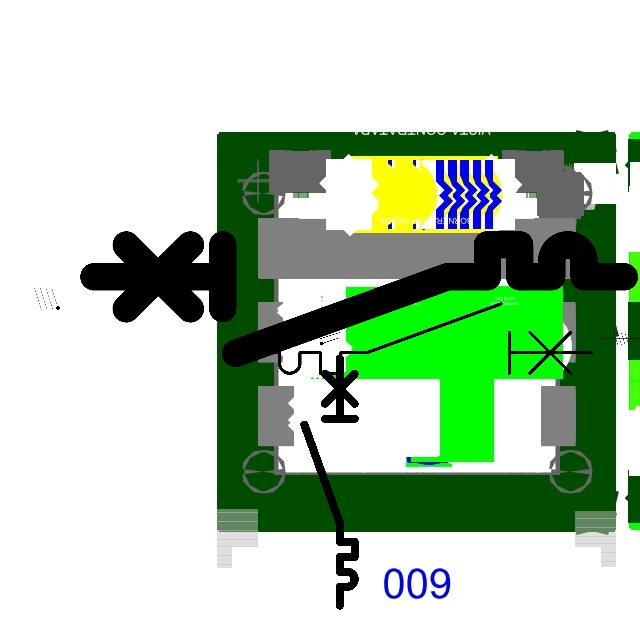interruptor_termomagnetico: (80, 231, 638, 367), (245, 295, 599, 382), (298, 352, 361, 612)
